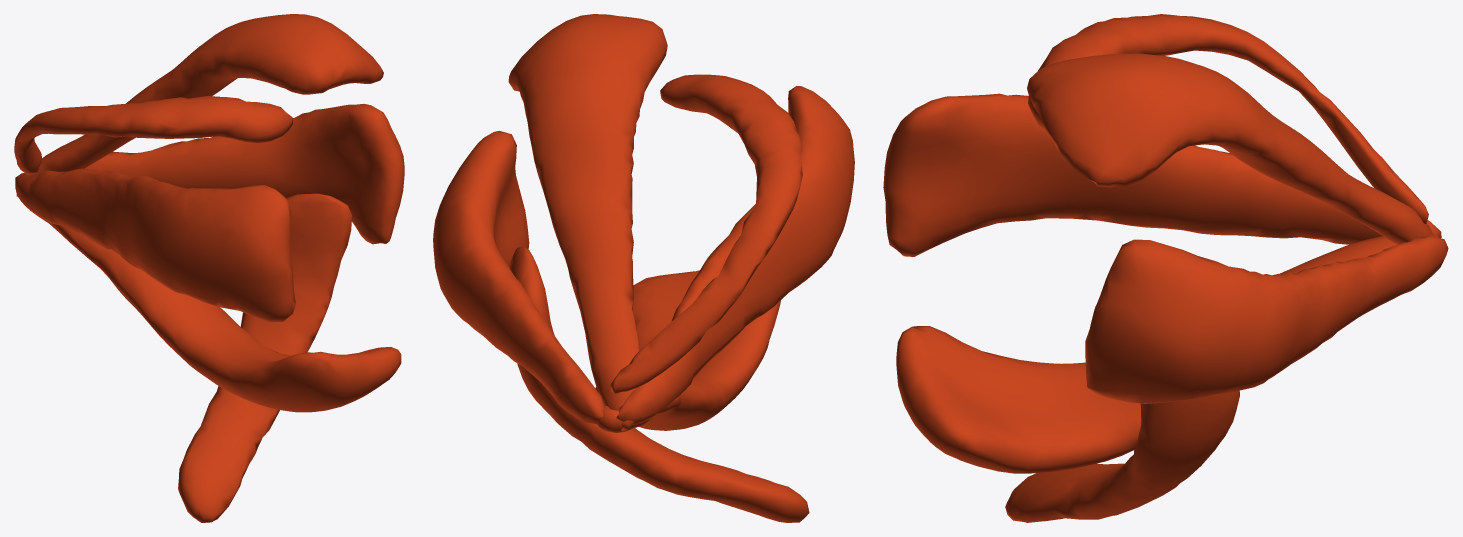
The model's file is Orbital Muscles.glb.
3 renders of one model, left to right at view 1: azimuth 30°, elevation 25°; view 2: azimuth 150°, elevation 25°; view 3: azimuth 270°, elevation 25°, orthographic. The views are drawn at different scales.
Parts seen in each view (by area): view 1: Orbital Muscles.glb; view 2: Orbital Muscles.glb; view 3: Orbital Muscles.glb.
Boxes of the visible parts, x1,y1,x2,y2 form: Orbital Muscles.glb: (14,14,404,522); Orbital Muscles.glb: (433,14,854,522); Orbital Muscles.glb: (883,14,1448,522).
Size of the model in its own units: 0.0543 by 0.0686 by 0.0654.
1 material, 1 textured.
